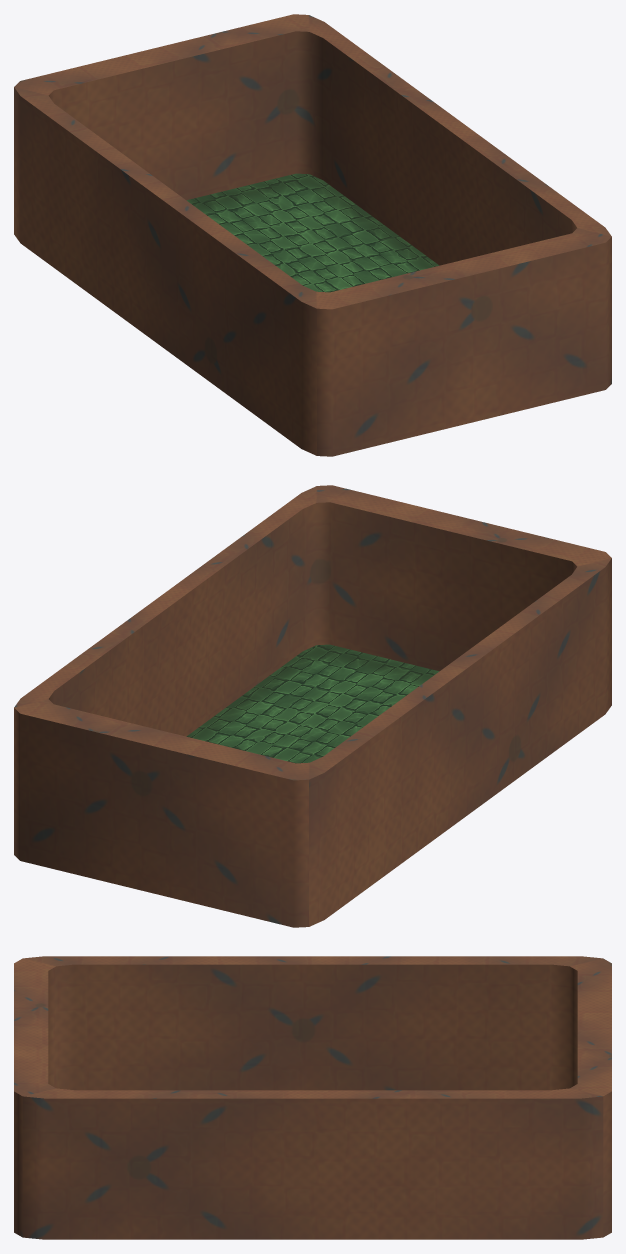
File: RogueLikeRoom_1.fbx
The picture shows the model from 3 angles, top to bottom: view 1: azimuth 30°, elevation 25°; view 2: azimuth 150°, elevation 25°; view 3: azimuth 270°, elevation 25°; orthographic projection. The views are drawn at different scales.
Parts seen in each view (by area): view 1: Plane.001, Plane; view 2: Plane.001, Plane; view 3: Plane.001.
Part boxes in pixels (box(x1,y1,x2,y2)): Plane.001: box(14, 14, 611, 456); Plane: box(187, 173, 439, 292); Plane.001: box(14, 485, 611, 927); Plane: box(186, 644, 438, 763); Plane.001: box(14, 956, 611, 1239).
Bounding box in the file's own units: 2035 × 942 × 3617.
